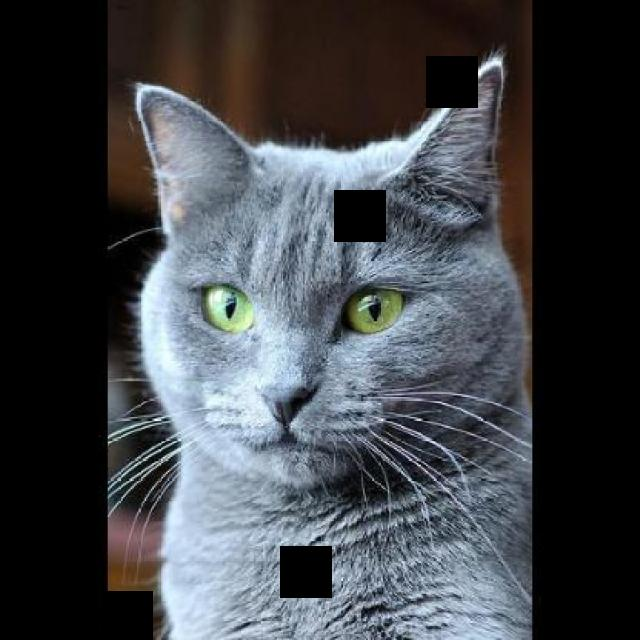unauthorized: (105, 46, 532, 639)
